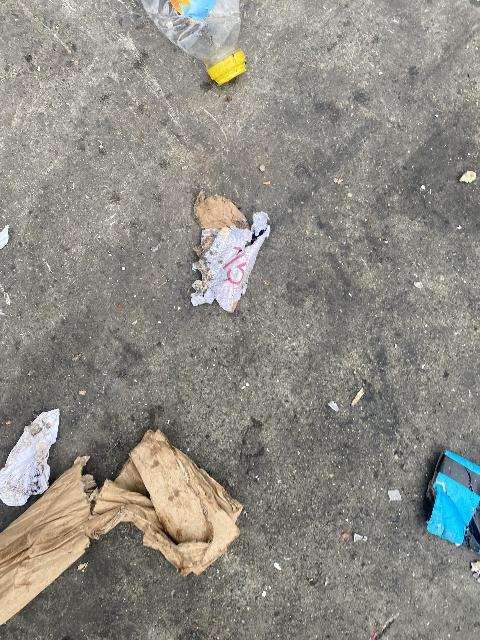Kagit: (0, 379, 259, 640), (170, 190, 295, 308), (411, 421, 479, 600)
Plastik: (146, 0, 257, 90), (205, 51, 251, 83)
